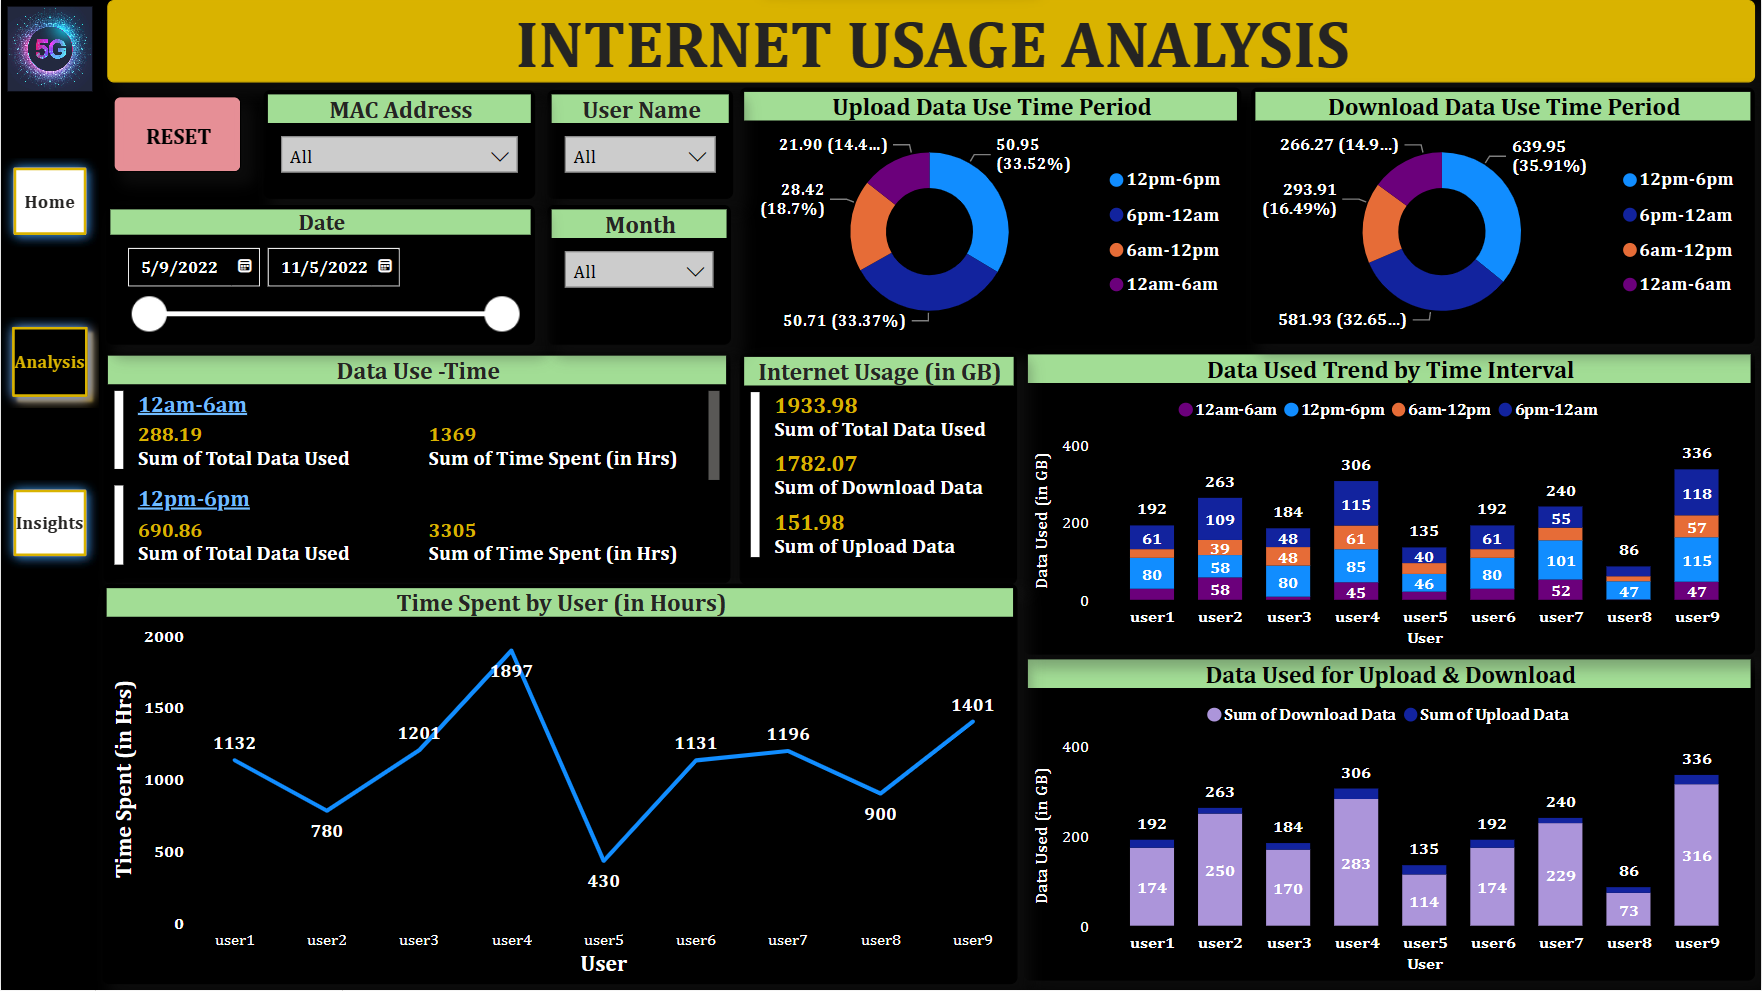

Layout of this report page (visuals, bound fields, positions):
{"tool":"powerbi","page":{"name":"Analysis","canvas":[1280,720],"ordinal":1},"visuals":[{"type":"shape","title":"INTERNET USAGE ANALYSIS","box":[77.1,0,1198.6,60],"z":0},{"type":"image","box":[0,0,71.4,71.4],"z":1000},{"type":"columnChart","title":"Data Used for Upload & Download","fields":{"Category":["internet_session.User"],"Y":["Sum(internet_session.Data Use for Download)","Sum(internet_session.Data Use for Upload)"]},"box":[743.8,476.3,532,236.8],"z":2000},{"type":"columnChart","title":"Data Used Trend by Time Interval","fields":{"Category":["internet_session.User"],"Series":["internet_session.Period of Use"],"Y":["Sum(internet_session.Total Data Consumption)"]},"box":[743.8,254.9,532,221.4],"z":3000},{"type":"multiRowCard","title":"Data Use -Time","fields":{"Values":["internet_session.Period of Use","Sum(internet_session.Total Data Used)","Sum(internet_session.Data Used in Hrs)"]},"box":[74.8,255.7,455.9,168.8],"z":4000},{"type":"multiRowCard","title":"Internet Usage (in GB)","fields":{"Values":["Sum(internet_session.Total Data Consumption)","Sum(internet_session.Download Data)","Sum(internet_session.Upload Data)"]},"box":[537.6,256.3,201.9,168.5],"z":5000},{"type":"donutChart","title":"Upload Data Use Time Period","fields":{"Category":["internet_session.Period of Use"],"Y":["Sum(internet_session.Data Use for Upload)"]},"box":[537.6,64.1,364.9,186.6],"z":6000},{"type":"pieChart","title":"Download Data Use Time Period","fields":{"Category":["internet_session.Period of Use"],"Y":["Sum(internet_session.Data Use for Download)"]},"box":[909.5,64.1,366.3,186.6],"z":7000},{"type":"lineChart","title":"Time Spent by User (in Hours)","fields":{"Category":["internet_session.Date_1.Variation.Date Hierarchy.Month","internet_session.User"],"Y":["Sum(internet_session.Data Used in Hrs)"]},"box":[73.8,424.8,665.8,291.1],"z":8000},{"type":"slicer","title":"User Name","fields":{"Values":["internet_session.User"]},"box":[396.9,65.5,135.1,79.4],"z":9000},{"type":"slicer","title":"MAC Address","fields":{"Values":["internet_session.MAC Address"]},"box":[190.8,65.5,197.8,79.4],"z":10000},{"type":"slicer","title":"Month","fields":{"Values":["internet_session.M_Name"]},"box":[396.9,149,133.7,101.7],"z":11000},{"type":"slicer","title":"Date ","fields":{"Values":["internet_session.Date_1"]},"box":[76.6,149,312,101.7],"z":12000},{"type":"actionButton","box":[82,69.9,92.9,55.5],"z":13000},{"type":"pageNavigator","box":[0,112.5,71.2,302.5],"z":14000}]}

Visuals, with their boxes in screenshot pixels (x1, y1, x2, y2), scaled from the page's 1280x720 canvas onto the 1762x991 screenshot:
"INTERNET USAGE ANALYSIS" shape: box=[106, 0, 1756, 83]
image: box=[0, 0, 98, 98]
"Data Used for Upload & Download" columnChart: box=[1024, 656, 1756, 982]
"Data Used Trend by Time Interval" columnChart: box=[1024, 351, 1756, 656]
"Data Use -Time" multiRowCard: box=[103, 352, 731, 584]
"Internet Usage (in GB)" multiRowCard: box=[740, 353, 1018, 585]
"Upload Data Use Time Period" donutChart: box=[740, 88, 1242, 345]
"Download Data Use Time Period" pieChart: box=[1252, 88, 1756, 345]
"Time Spent by User (in Hours)" lineChart: box=[102, 585, 1018, 985]
"User Name" slicer: box=[546, 90, 732, 199]
"MAC Address" slicer: box=[263, 90, 535, 199]
"Month" slicer: box=[546, 205, 730, 345]
"Date " slicer: box=[105, 205, 535, 345]
actionButton: box=[113, 96, 241, 173]
pageNavigator: box=[0, 155, 98, 571]
